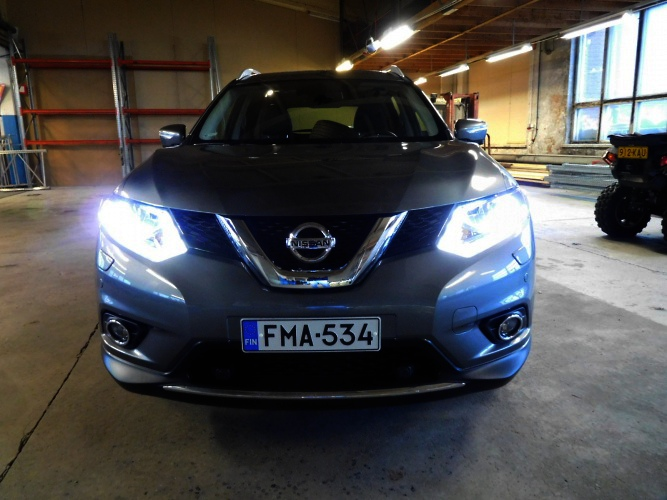license: (239, 319, 383, 355)
